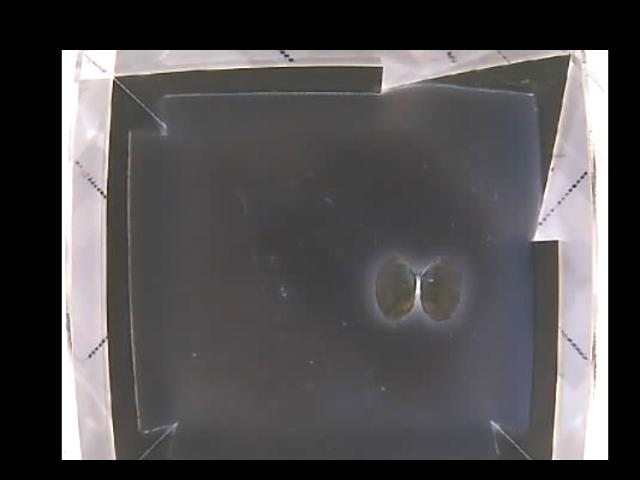Shell: (375, 255, 463, 323)
